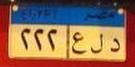2: (46, 27, 59, 52), (33, 27, 45, 52), (20, 27, 31, 53)
ain: (70, 29, 88, 56)
daal: (109, 36, 122, 57)
laam: (89, 33, 105, 56)
